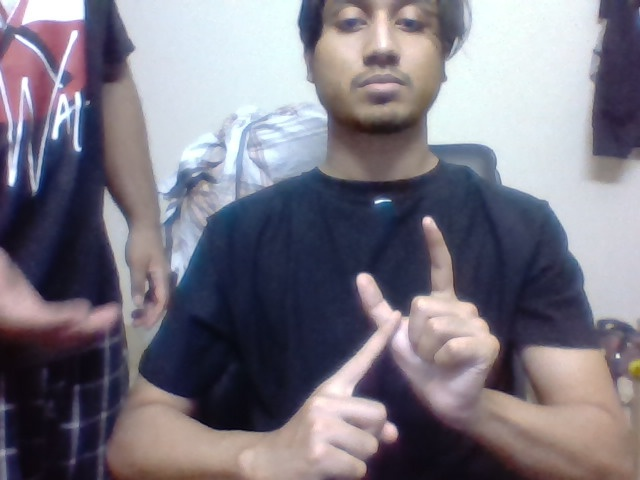Y: (335, 213, 459, 405)
